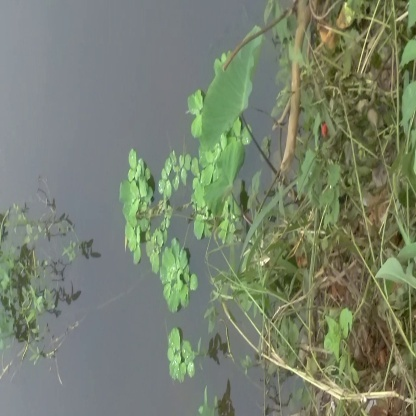leaf: (163, 247, 197, 313)
